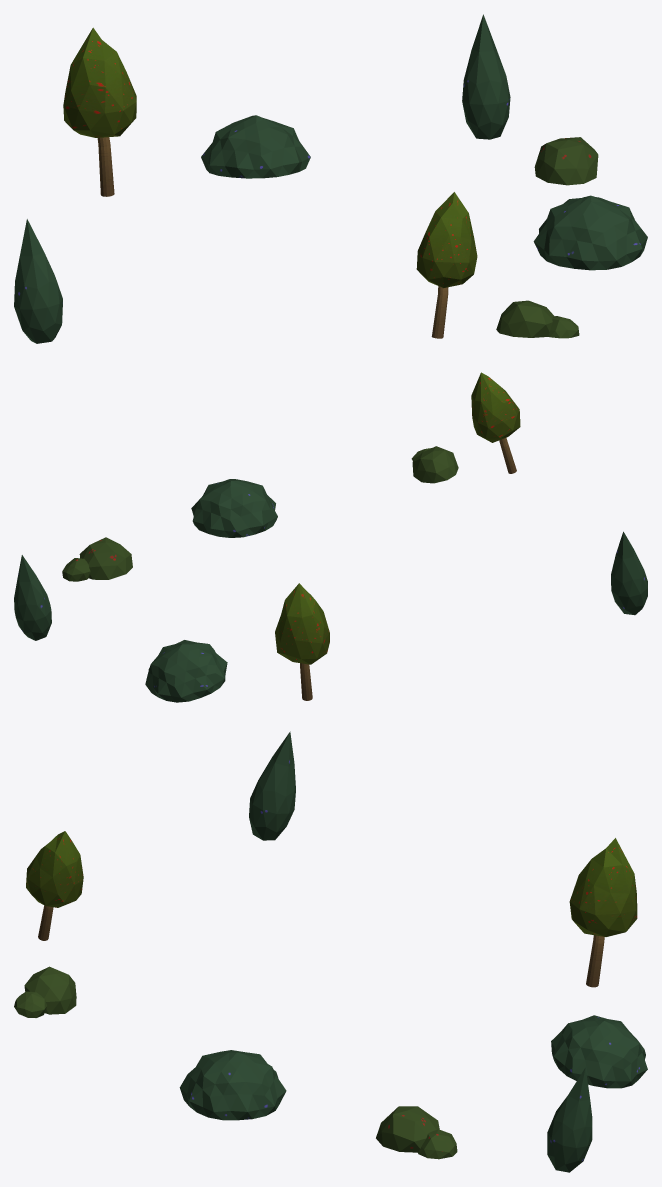
The model's file is Bushes14.gltf.
The picture shows the model from 3 angles, top to bottom: view 1: azimuth 30°, elevation 25°; view 2: azimuth 150°, elevation 25°; view 3: azimuth 270°, elevation 25°; orthographic projection. The views are drawn at different scales.
Parts seen in each view (by area): view 1: Hollytree1 - copy.002, JuniperBush1 - copy.011, JuniperBush1 - copy.013, Hollytree1 - copy.023, JuniperBush2 - copy.018, JuniperBush2 - copy.002, StrawberryBush2 - copy.005, StrawberryBush1 - copy.002; view 2: JuniperBush1 - copy.011, JuniperBush1 - copy.013, Hollytree1 - copy.002, Hollytree1 - copy.023, JuniperBush2 - copy.018, StrawberryBush2 - copy.005, JuniperBush2 - copy.002, StrawberryBush1 - copy.002; view 3: JuniperBush1 - copy.011, Hollytree1 - copy.002, JuniperBush1 - copy.013, Hollytree1 - copy.023, JuniperBush2 - copy.002, JuniperBush2 - copy.018, StrawberryBush2 - copy.005, StrawberryBush1 - copy.002.
Part boxes in pixels (x1=…): Hollytree1 - copy.002: x1=63, y1=27, x2=136, y2=196; JuniperBush1 - copy.011: x1=533, y1=195, x2=647, y2=270; JuniperBush1 - copy.013: x1=201, y1=115, x2=310, y2=178; Hollytree1 - copy.023: x1=416, y1=192, x2=477, y2=338; JuniperBush2 - copy.018: x1=462, y1=14, x2=510, y2=139; JuniperBush2 - copy.002: x1=14, y1=219, x2=62, y2=343; StrawberryBush2 - copy.005: x1=534, y1=137, x2=598, y2=185; StrawberryBush1 - copy.002: x1=496, y1=300, x2=579, y2=338; JuniperBush1 - copy.011: x1=191, y1=479, x2=277, y2=537; JuniperBush1 - copy.013: x1=145, y1=640, x2=227, y2=702; Hollytree1 - copy.002: x1=275, y1=583, x2=329, y2=700; Hollytree1 - copy.023: x1=471, y1=372, x2=520, y2=473; JuniperBush2 - copy.018: x1=14, y1=555, x2=51, y2=640; StrawberryBush2 - copy.005: x1=62, y1=537, x2=132, y2=581; JuniperBush2 - copy.002: x1=611, y1=531, x2=647, y2=615; StrawberryBush1 - copy.002: x1=411, y1=446, x2=458, y2=483; JuniperBush1 - copy.011: x1=179, y1=1050, x2=286, y2=1120; Hollytree1 - copy.002: x1=569, y1=838, x2=637, y2=987; JuniperBush1 - copy.013: x1=551, y1=1015, x2=647, y2=1088; Hollytree1 - copy.023: x1=26, y1=831, x2=83, y2=940; JuniperBush2 - copy.002: x1=249, y1=731, x2=295, y2=840; JuniperBush2 - copy.018: x1=547, y1=1067, x2=592, y2=1172; StrawberryBush2 - copy.005: x1=376, y1=1106, x2=457, y2=1159; StrawberryBush1 - copy.002: x1=14, y1=966, x2=76, y2=1017.
Size of the model in its own units: 18.74 by 5.92 by 16.87.
5 materials, 5 textured.
